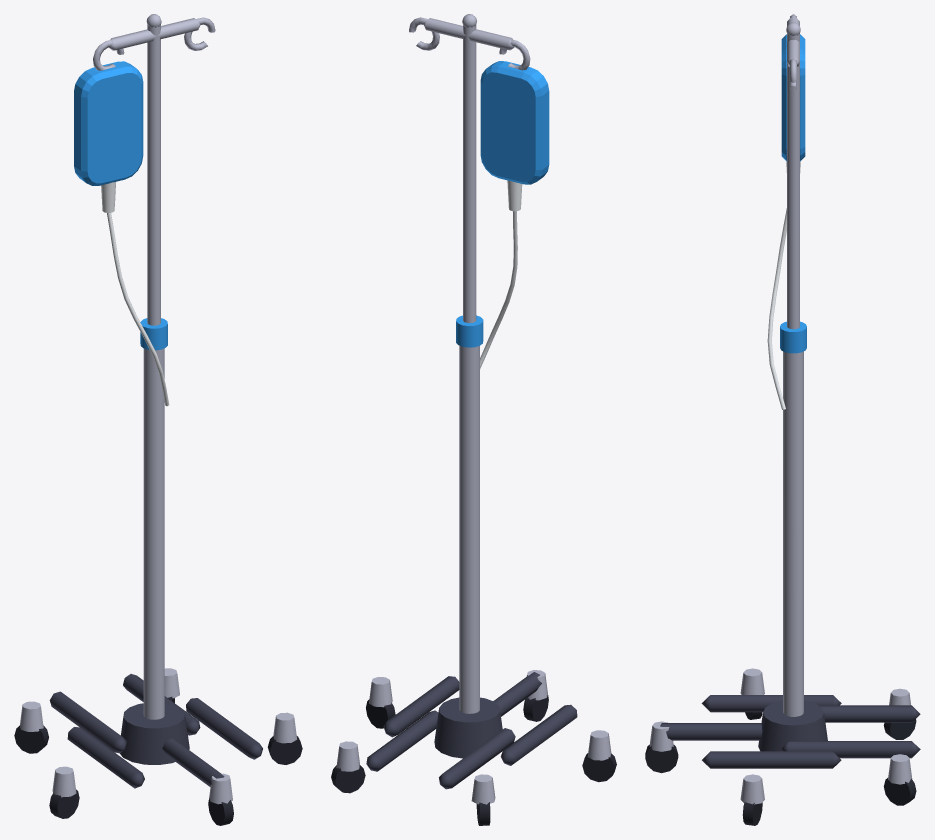
File: iv_drip_stand.glb
The picture shows the model from 3 angles, left to right: view 1: azimuth 30°, elevation 25°; view 2: azimuth 150°, elevation 25°; view 3: azimuth 270°, elevation 25°; orthographic projection.
Parts seen in each view (by area): view 1: iv_pole_lower, iv_bag, iv_pole_upper, iv_base_hub, iv_base_leg_1, iv_base_leg_3, iv_base_leg_4, iv_hook_bar, iv_base_leg_0, iv_line, iv_base_leg_2, iv_caster_1 (+7 smaller); view 2: iv_bag, iv_pole_lower, iv_pole_upper, iv_base_hub, iv_base_leg_1, iv_base_leg_3, iv_base_leg_4, iv_base_leg_2, iv_hook_bar, iv_base_leg_0, iv_line, iv_collar (+7 smaller); view 3: iv_pole_lower, iv_pole_upper, iv_base_hub, iv_base_leg_1, iv_base_leg_2, iv_base_leg_0, iv_base_leg_3, iv_base_leg_4, iv_bag, iv_line, iv_collar, iv_caster_0 (+5 smaller).
Part boxes in pixels (<box>): iv_pole_lower: <box>143,348,164,719</box>; iv_bag: <box>74,61,143,185</box>; iv_pole_upper: <box>147,24,160,325</box>; iv_base_hub: <box>120,703,189,764</box>; iv_base_leg_1: <box>186,698,262,759</box>; iv_base_leg_3: <box>49,691,127,753</box>; iv_base_leg_4: <box>67,727,144,788</box>; iv_hook_bar: <box>109,18,200,50</box>; iv_base_leg_0: <box>162,738,224,786</box>; iv_line: <box>107,213,169,406</box>; iv_base_leg_2: <box>123,674,200,735</box>; iv_caster_1: <box>267,736,302,764</box>; iv_bag: <box>480,61,549,184</box>; iv_pole_lower: <box>459,345,479,713</box>; iv_pole_upper: <box>463,24,476,323</box>; iv_base_hub: <box>434,697,502,758</box>; iv_base_leg_1: <box>383,676,459,737</box>; iv_base_leg_3: <box>439,728,515,789</box>; iv_base_leg_4: <box>500,704,577,765</box>; iv_base_leg_2: <box>366,710,438,771</box>; iv_hook_bar: <box>424,18,513,50</box>; iv_base_leg_0: <box>493,672,541,716</box>; iv_line: <box>480,211,517,368</box>; iv_collar: <box>456,315,483,347</box>; iv_pole_lower: <box>783,351,803,716</box>; iv_pole_upper: <box>787,33,799,329</box>; iv_base_hub: <box>758,700,827,751</box>; iv_base_leg_1: <box>702,751,841,768</box>; iv_base_leg_2: <box>780,741,920,758</box>; iv_base_leg_0: <box>660,723,762,740</box>; iv_base_leg_3: <box>818,705,920,722</box>; iv_base_leg_4: <box>701,695,841,712</box>; iv_bag: <box>781,34,805,161</box>; iv_line: <box>767,208,786,409</box>; iv_collar: <box>780,321,806,353</box>; iv_caster_0: <box>645,745,678,773</box>.
Bounding box in the file's own units: 0.606 × 1.75 × 0.5854.
